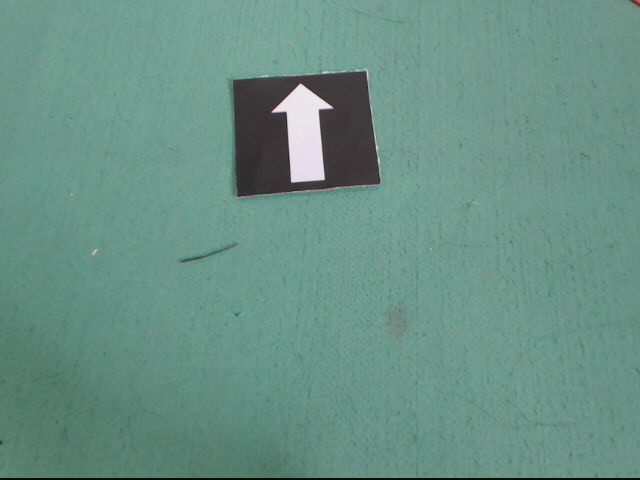straight: (229, 69, 382, 198)
